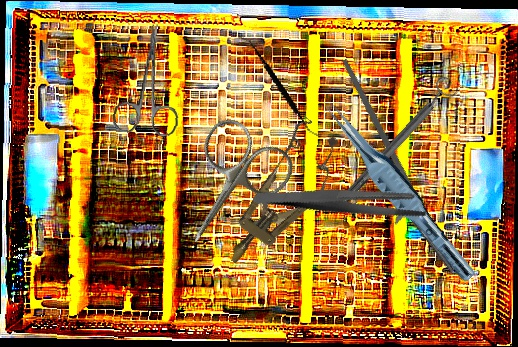Dressing Forceps: (252, 147, 431, 255)
Fixation Ring: (333, 73, 462, 209)
Iris Scissors: (155, 111, 301, 267), (111, 20, 190, 139)
Needle Holder: (303, 57, 479, 284)
Spatula Surgical: (214, 35, 344, 138)
Speculum: (207, 114, 353, 280)
Tissue Forceps: (314, 98, 487, 284)
